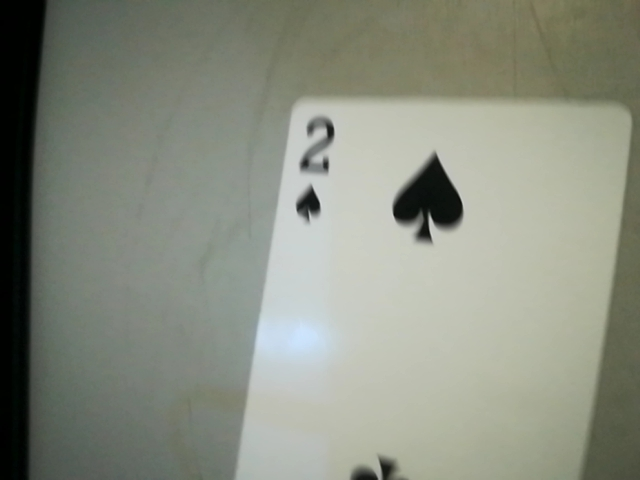ht 2: (282, 107, 348, 234)
